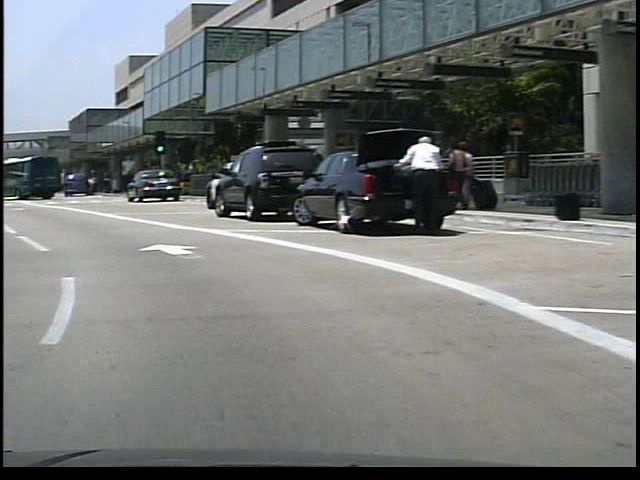person: (385, 130, 439, 236), (447, 137, 469, 216), (439, 139, 462, 214)
